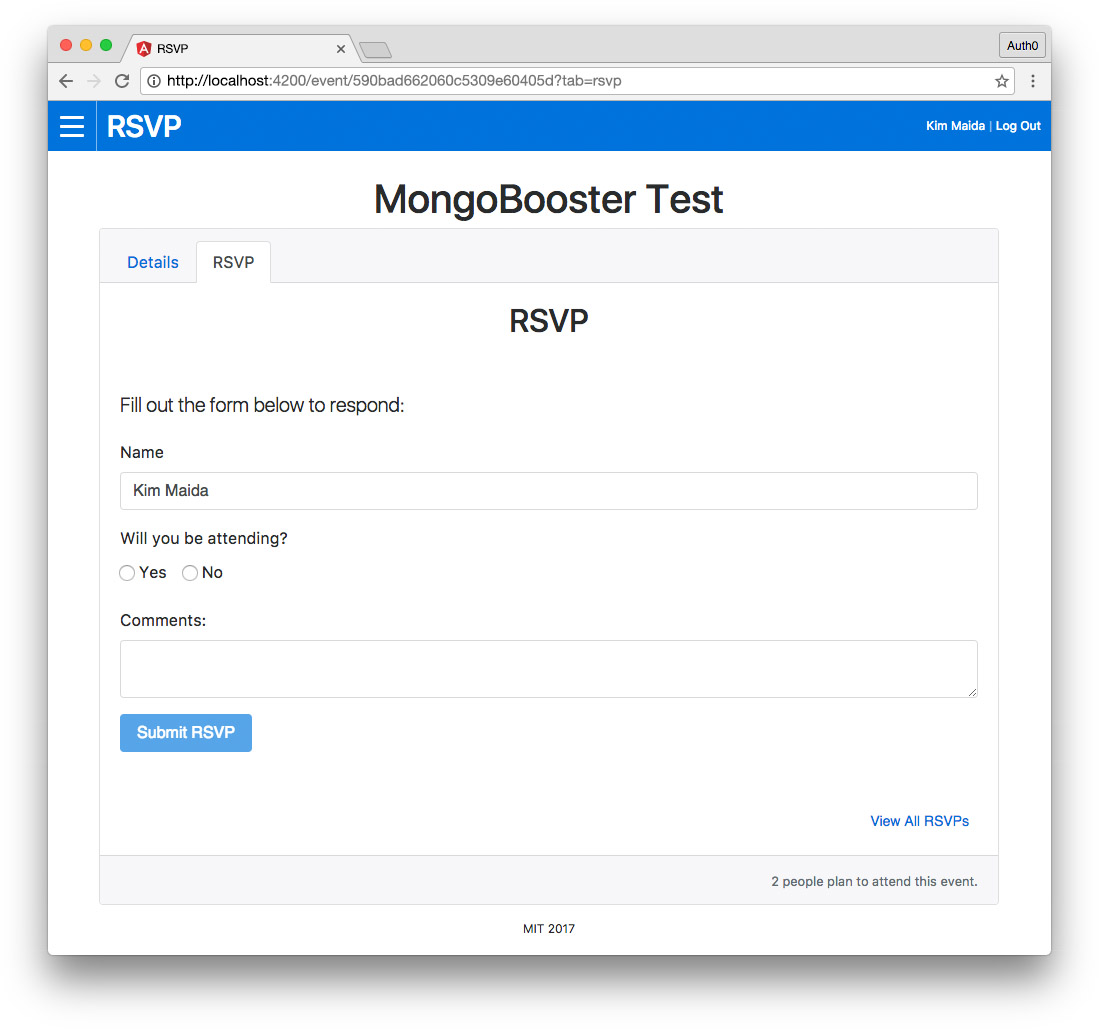_form_: (106, 355, 996, 758)
button: (117, 710, 257, 756)
field: (115, 638, 984, 701), (116, 470, 978, 514)
field_with_label: (112, 613, 988, 704), (113, 446, 981, 517)
radio: (118, 562, 140, 583), (183, 562, 201, 583)
radio_with_label: (112, 559, 165, 586), (180, 559, 221, 586)
